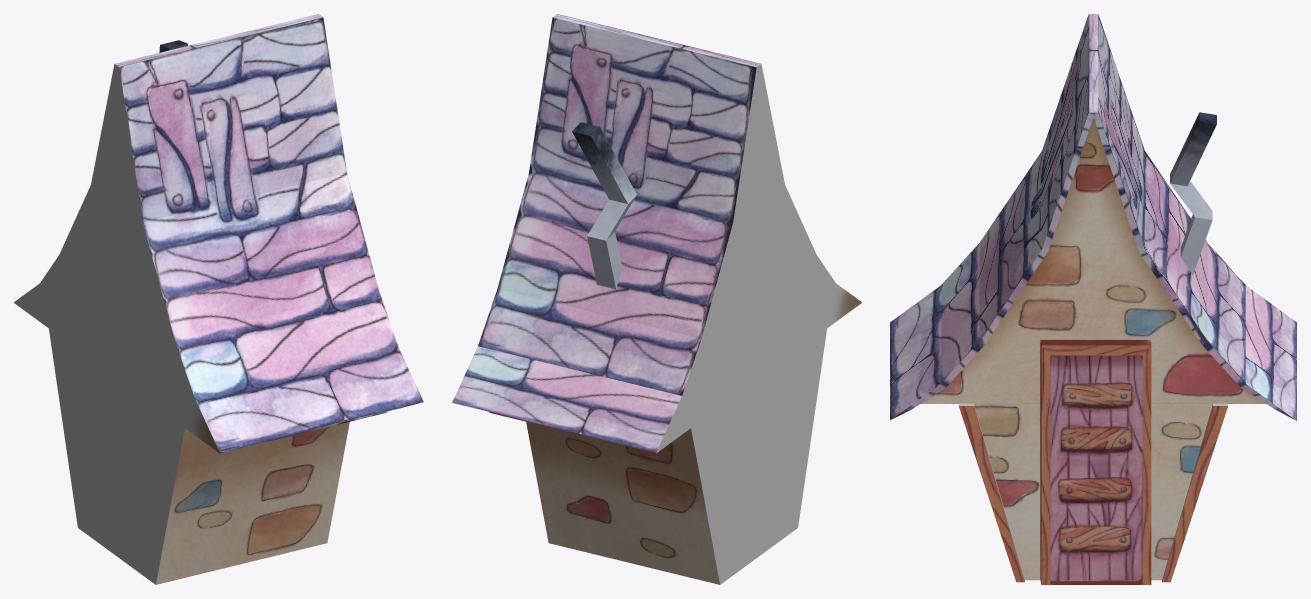
File: house.fbx
3 views of the same model, side by side, from view 1: azimuth 30°, elevation 25°; view 2: azimuth 150°, elevation 25°; view 3: azimuth 270°, elevation 25° (orthographic).
Visible parts, largest first — view 1: Cube; view 2: Cube; view 3: Cube.
Boxes of the visible parts, x1=… form: Cube: x1=14, y1=14, x2=423, y2=584; Cube: x1=452, y1=14, x2=861, y2=584; Cube: x1=890, y1=14, x2=1296, y2=584.
Bounding box in the file's own units: 353 × 811 × 616.
Materials: 1 (1 with a texture image).
